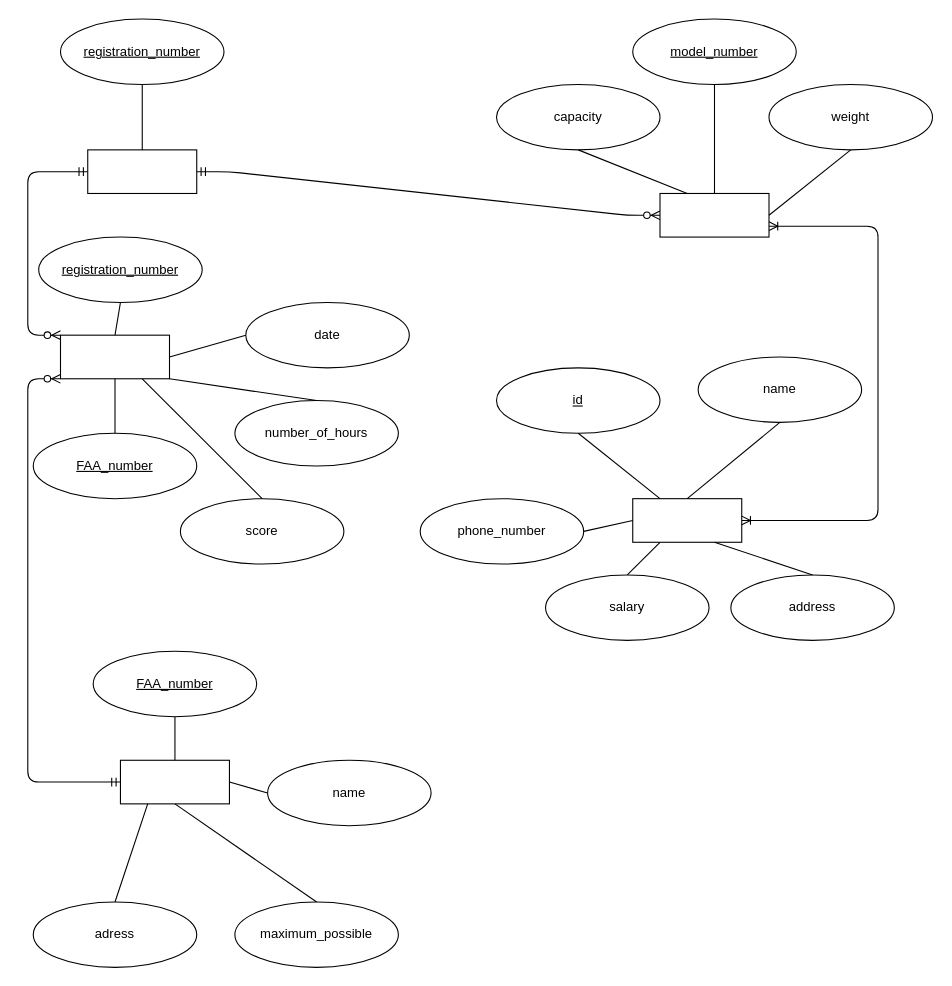
Some shapes in this 952 by 986 pixel diagram are drawn without their labels. Here are the shapes that lost their labels. From the top down, the centre of each, then its label:
At pixel 142 171: "Plane".
At pixel 714 214: "Model".
At pixel 114 356: "Test Track".
At pixel 687 520: "Technician".
At pixel 174 781: "Test".
